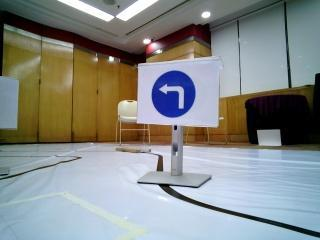left: (146, 67, 205, 130)
